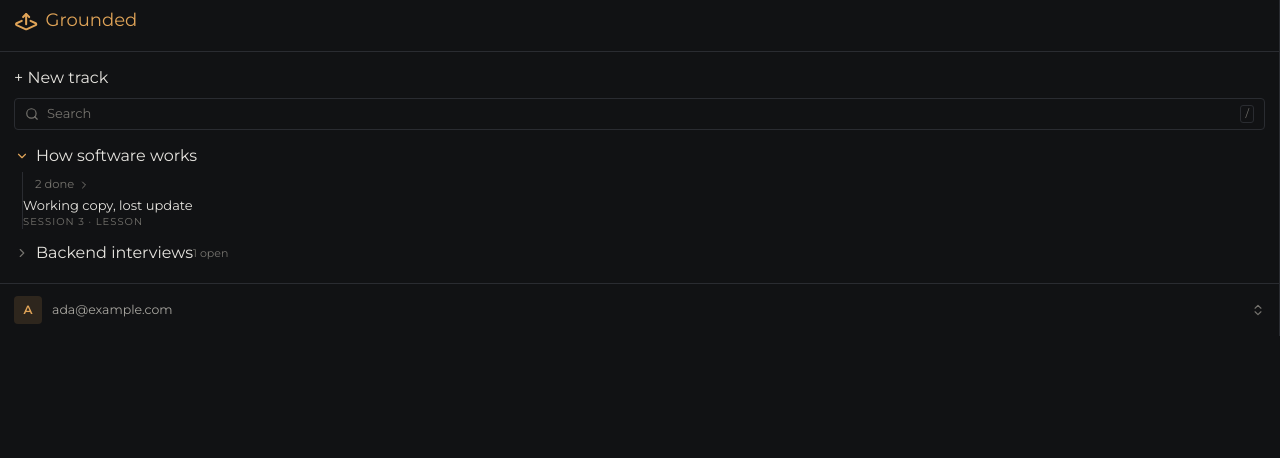
the track list › unfolds finished sessions, and opens another track's items on request
Click the button "2 done" at [57, 185], box 23,172 -> 90,197
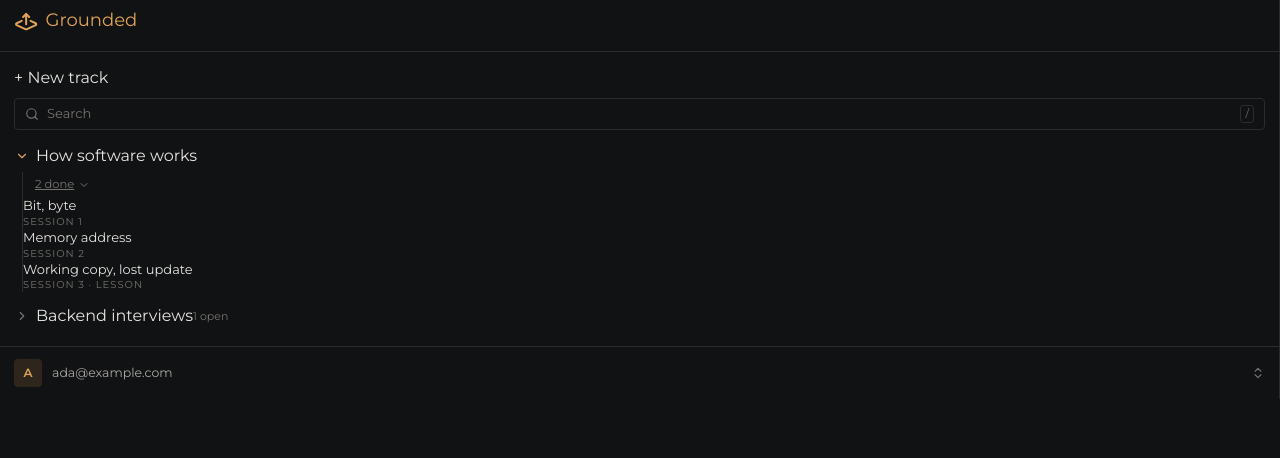
Expected: the links read "Bit, byteSession 1", "Memory addressSession 2", "Working copy, lost updateSession 3 · lesson", in this order, 23,197 -> 83,228; 23,229 -> 132,260; 23,260 -> 193,291
Click the button named "Show what is in Backend interviews" at [22, 316], box 8,302 -> 36,330
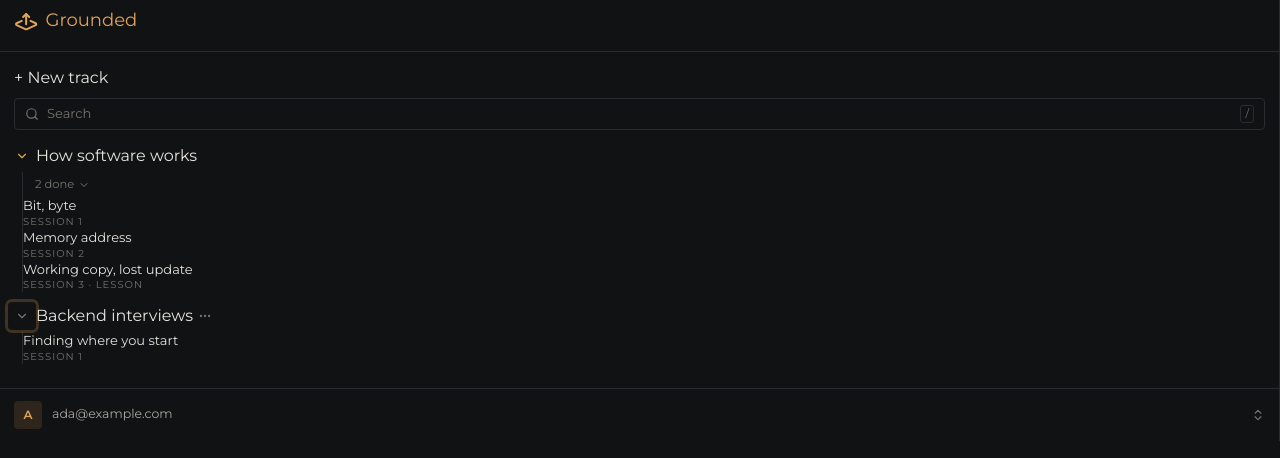
Expected: the link "Finding where you start Session 1" is shown, 23,332 -> 178,363
